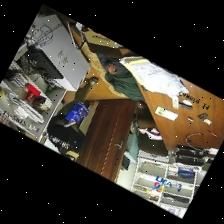person: (47, 76, 98, 160), (97, 53, 147, 108)
